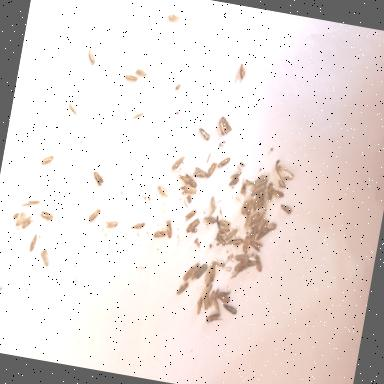pbw: (192, 262, 208, 282), (266, 185, 286, 199), (186, 216, 200, 234), (219, 115, 232, 134), (251, 181, 266, 197), (92, 171, 106, 187), (20, 215, 34, 231), (172, 154, 186, 170), (200, 282, 212, 300), (215, 117, 227, 135), (39, 248, 51, 266), (16, 213, 31, 227), (207, 264, 218, 283), (40, 153, 56, 166), (88, 206, 101, 222), (66, 100, 79, 116), (192, 165, 208, 178), (86, 48, 98, 65), (191, 262, 201, 282), (256, 212, 266, 232), (208, 196, 218, 216), (207, 160, 218, 178), (253, 254, 264, 272), (216, 292, 232, 304), (248, 240, 264, 252), (176, 280, 188, 296), (164, 219, 174, 238), (237, 63, 248, 80), (218, 155, 231, 169), (214, 233, 228, 246), (225, 228, 238, 242), (202, 292, 212, 310), (226, 236, 244, 246), (180, 184, 198, 194), (249, 210, 260, 226), (184, 266, 195, 282), (234, 259, 247, 272), (244, 258, 258, 270), (206, 312, 220, 324), (198, 128, 212, 140), (250, 223, 258, 244), (223, 304, 238, 315), (256, 190, 264, 210), (267, 182, 275, 202), (244, 211, 252, 231), (29, 232, 37, 252), (204, 266, 212, 286), (185, 208, 197, 221), (255, 177, 268, 189), (156, 185, 170, 196), (12, 209, 26, 220), (255, 210, 266, 224), (196, 296, 204, 315), (260, 218, 270, 233), (217, 218, 232, 228), (39, 210, 54, 220), (104, 218, 119, 228), (253, 192, 261, 210), (246, 198, 254, 216), (210, 258, 226, 267), (124, 72, 138, 82), (256, 227, 266, 241), (132, 221, 146, 231), (279, 204, 293, 214), (167, 12, 181, 22), (134, 68, 148, 78), (230, 169, 242, 180), (154, 228, 167, 238), (242, 198, 250, 214), (212, 298, 221, 312), (265, 222, 276, 233), (228, 176, 240, 186), (234, 253, 249, 261), (216, 224, 230, 232), (263, 186, 270, 202), (204, 215, 218, 223), (261, 198, 269, 212), (240, 183, 248, 197), (209, 290, 216, 306), (244, 177, 256, 186), (243, 235, 250, 250), (28, 198, 41, 204)
